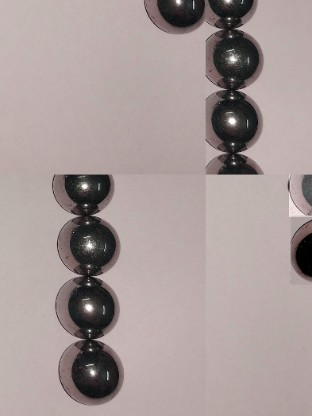ironball: (52, 338, 127, 404), (52, 211, 121, 279), (52, 275, 123, 338), (205, 89, 260, 154), (202, 25, 260, 84), (46, 175, 120, 214), (137, 0, 203, 35), (201, 0, 266, 30), (289, 215, 312, 284), (205, 151, 263, 176), (288, 174, 312, 217)
